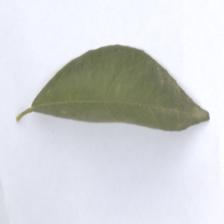healthy: (31, 40, 210, 142)
